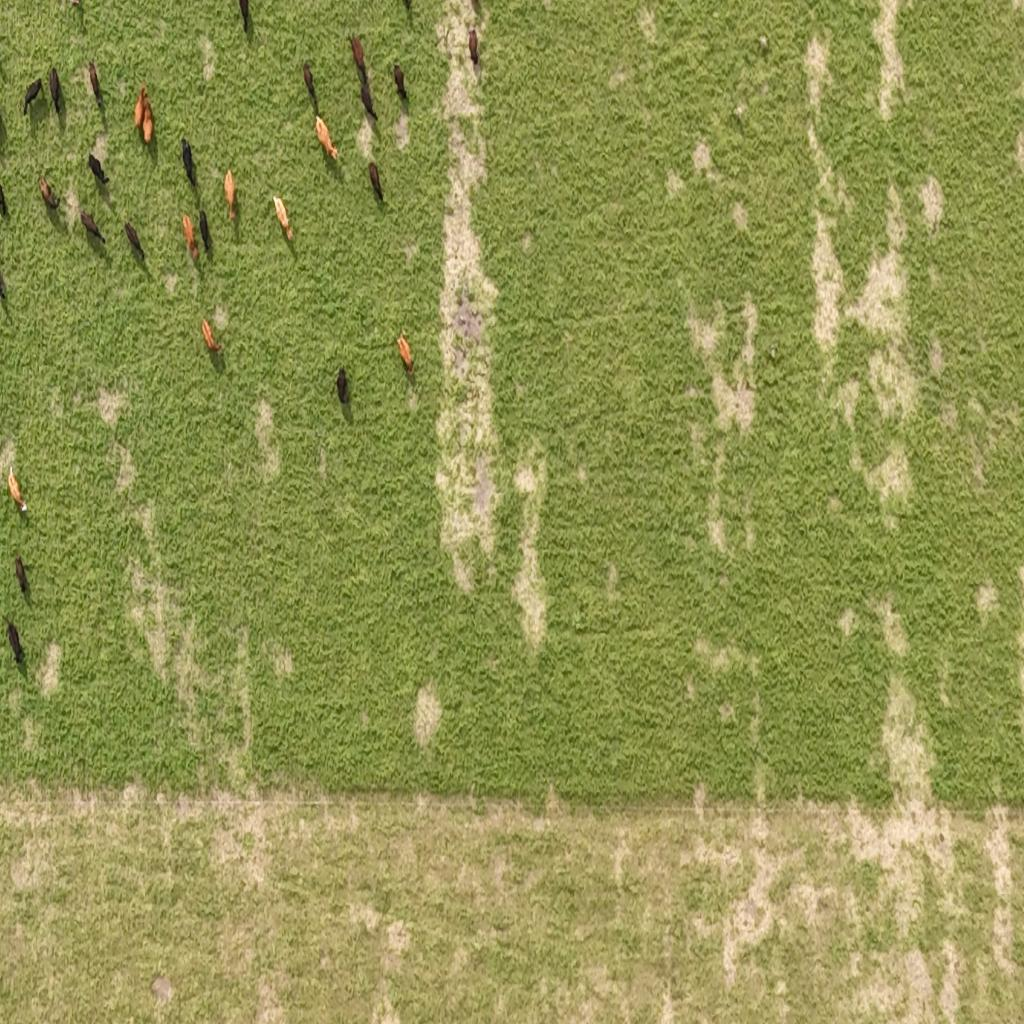cow: (313, 112, 341, 178), (272, 185, 301, 248), (4, 468, 34, 524), (0, 616, 30, 672), (366, 163, 390, 224), (332, 361, 358, 417), (10, 552, 36, 605), (175, 132, 202, 182), (196, 308, 220, 363), (389, 54, 412, 111), (85, 55, 105, 120), (181, 207, 201, 271), (20, 71, 42, 120), (197, 202, 216, 258), (125, 218, 149, 262), (143, 84, 158, 154), (49, 62, 67, 120), (463, 21, 484, 69), (79, 214, 109, 247), (220, 171, 241, 217), (91, 146, 115, 185), (300, 60, 318, 111), (394, 332, 415, 372), (360, 78, 378, 124), (0, 264, 15, 314), (39, 174, 58, 210), (349, 32, 365, 74), (135, 74, 145, 136), (0, 179, 12, 221), (238, 0, 249, 31)
